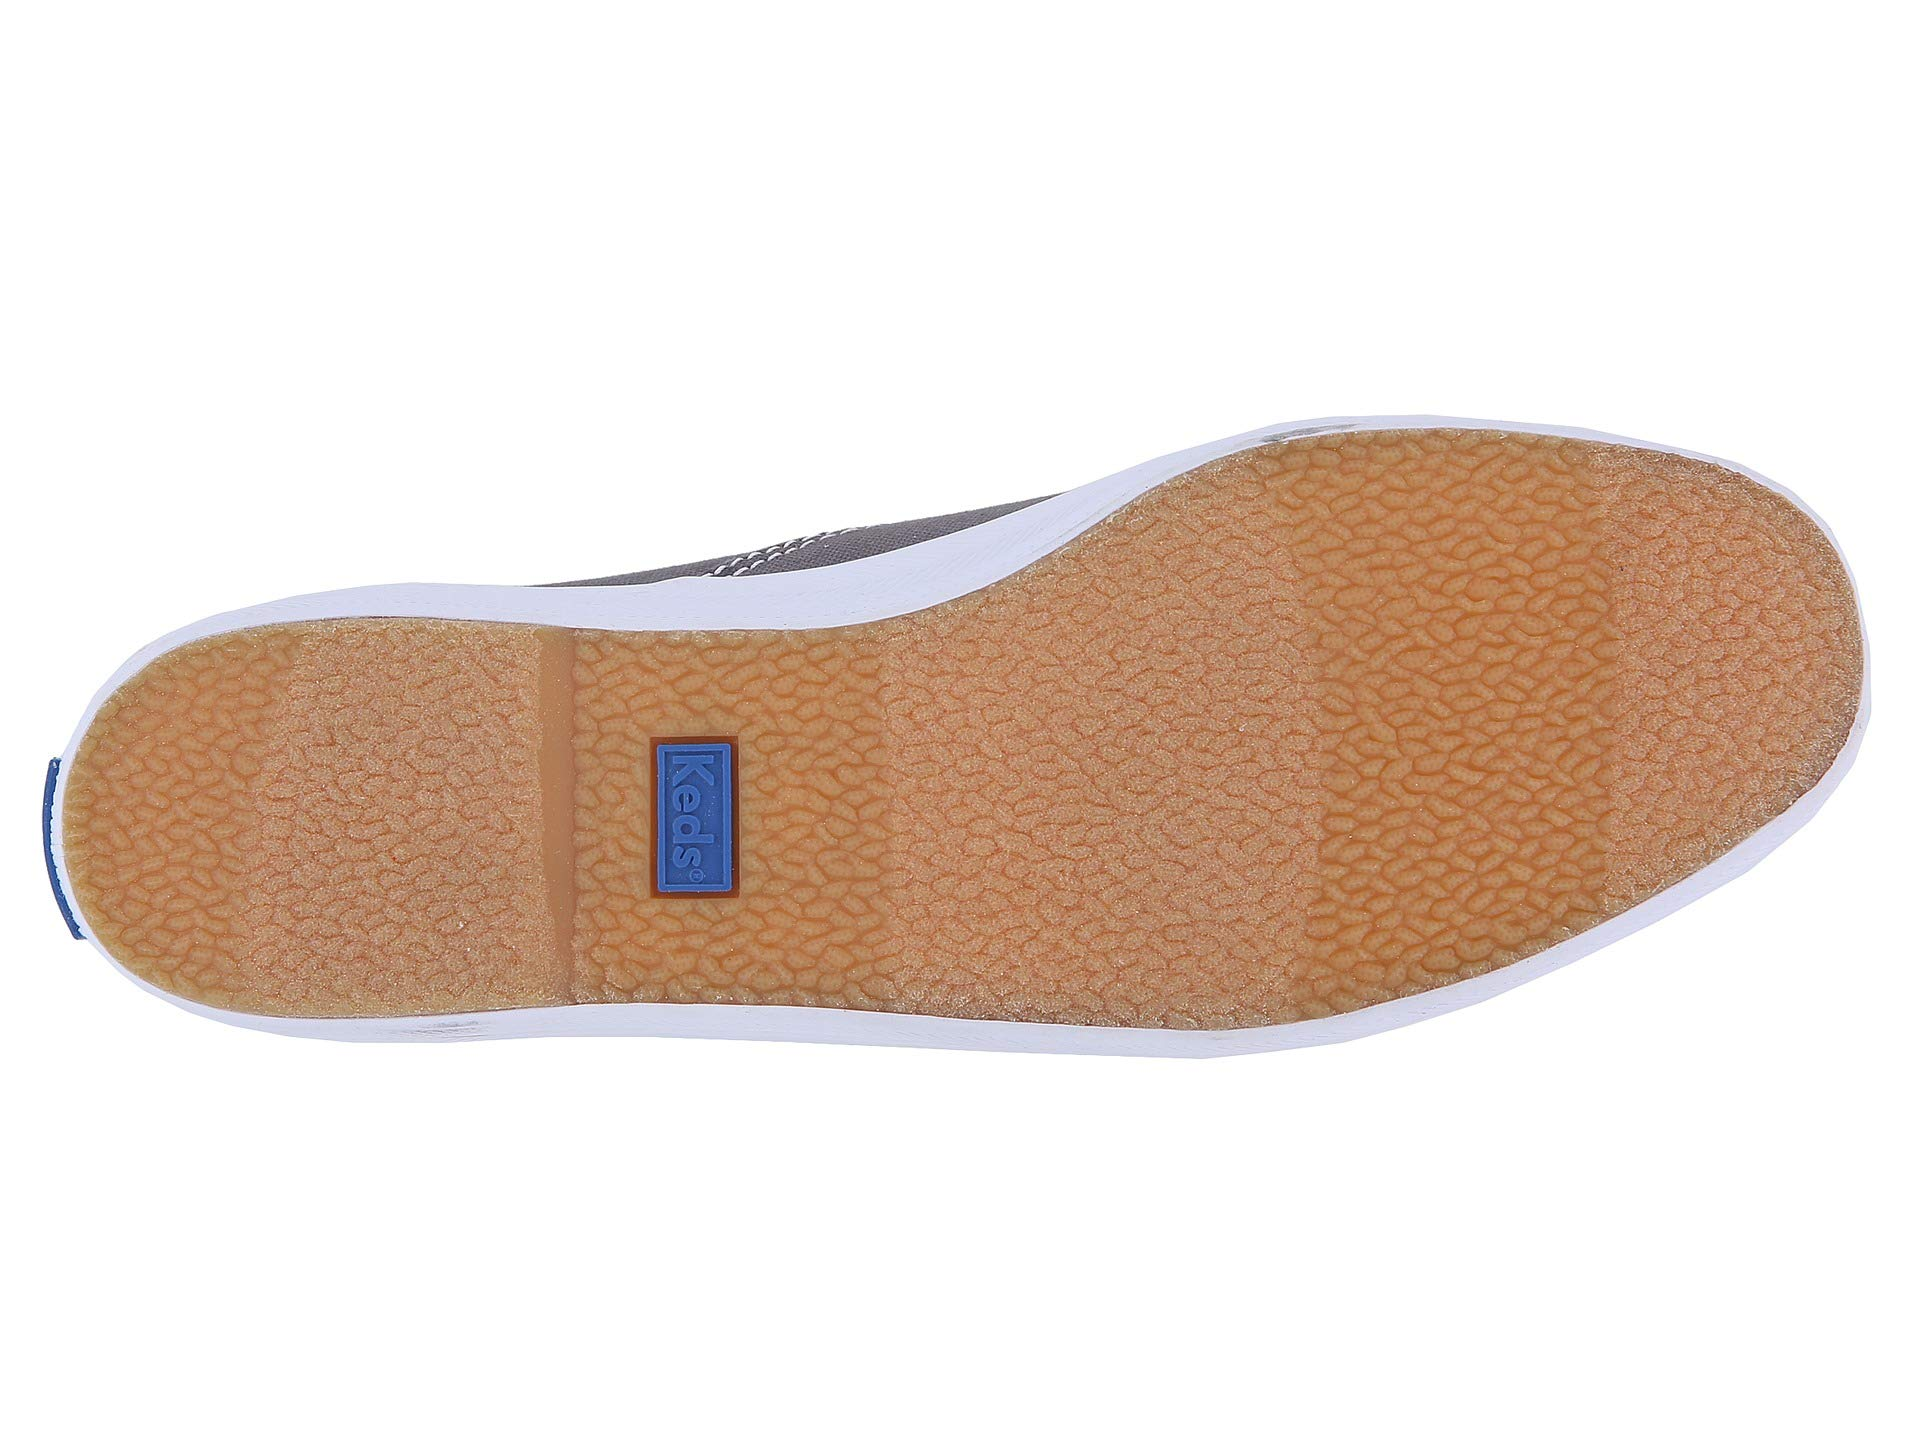other: (1268, 452, 1557, 921)
quad: (627, 691, 711, 852)
text: (627, 691, 711, 852)
